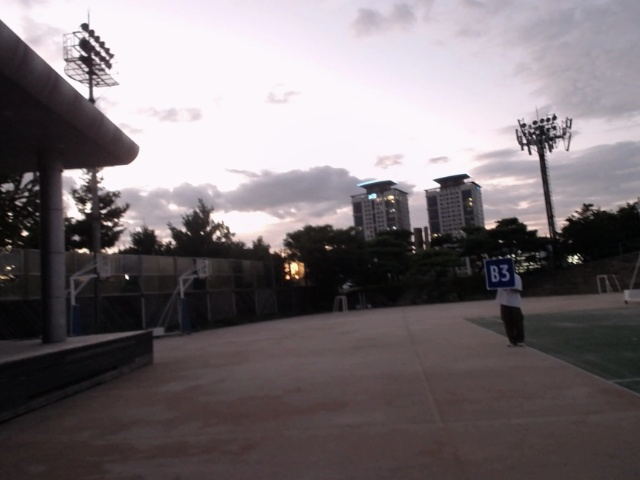delivery_b3: (482, 257, 517, 291)
